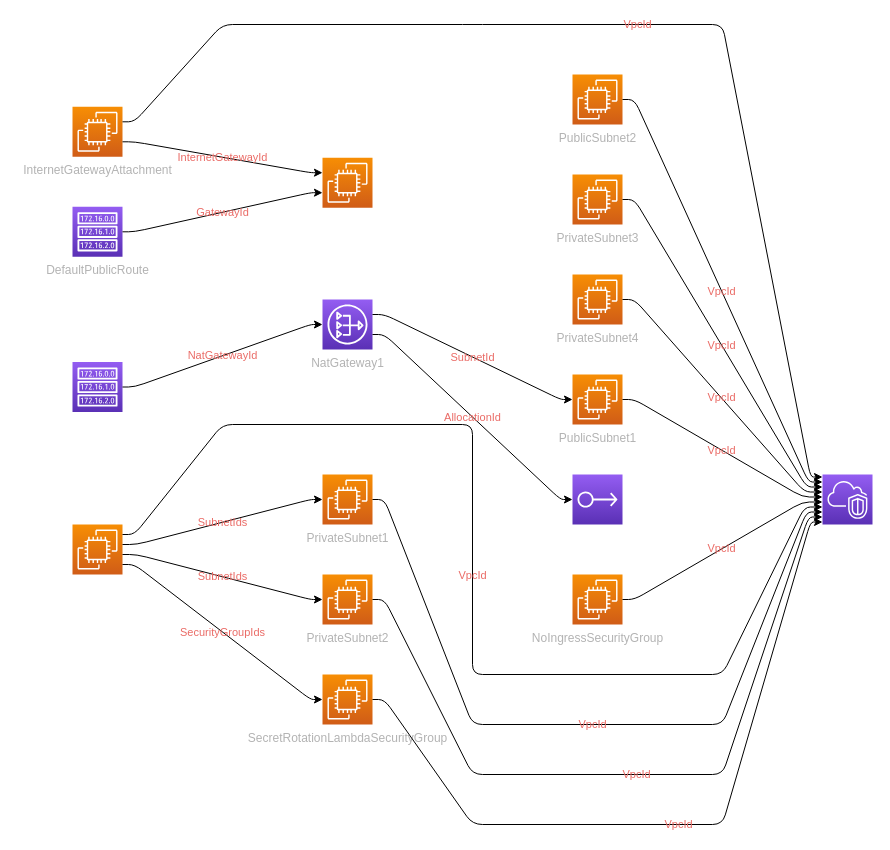
This 890x850 diagram has some shape labels left out. The centre of each missing label's shape, as x and y in pixels:
DefaultPrivateRoute1: [97,386]
InternetGateway: [347,182]
NatGateway1EIP: [597,499]
SecretsManagerVPCEndpoint: [97,549]
VPC: [847,499]
